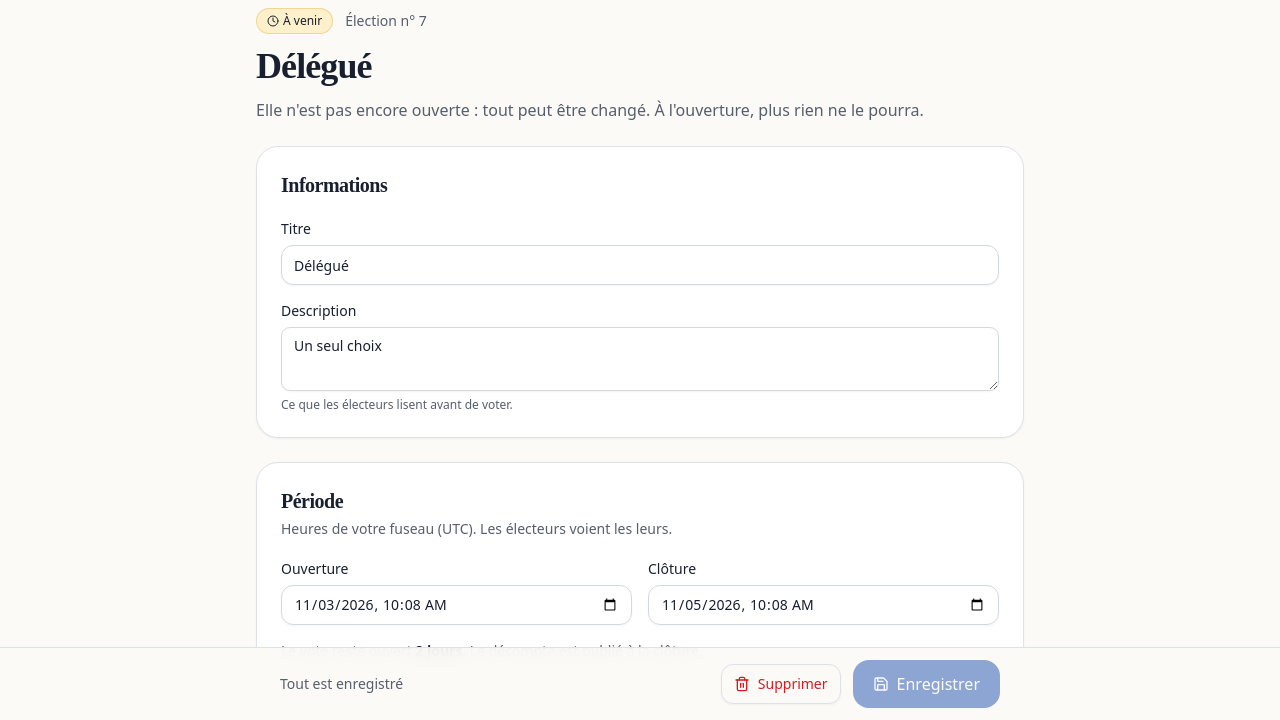
Test: changing an election that has not opened › shows who is on the roll, and a new title is saved WITHOUT touching it
Replace the text in the field labelled "Titre" with "Renamed" at (640, 265), box [281, 245, 999, 285]
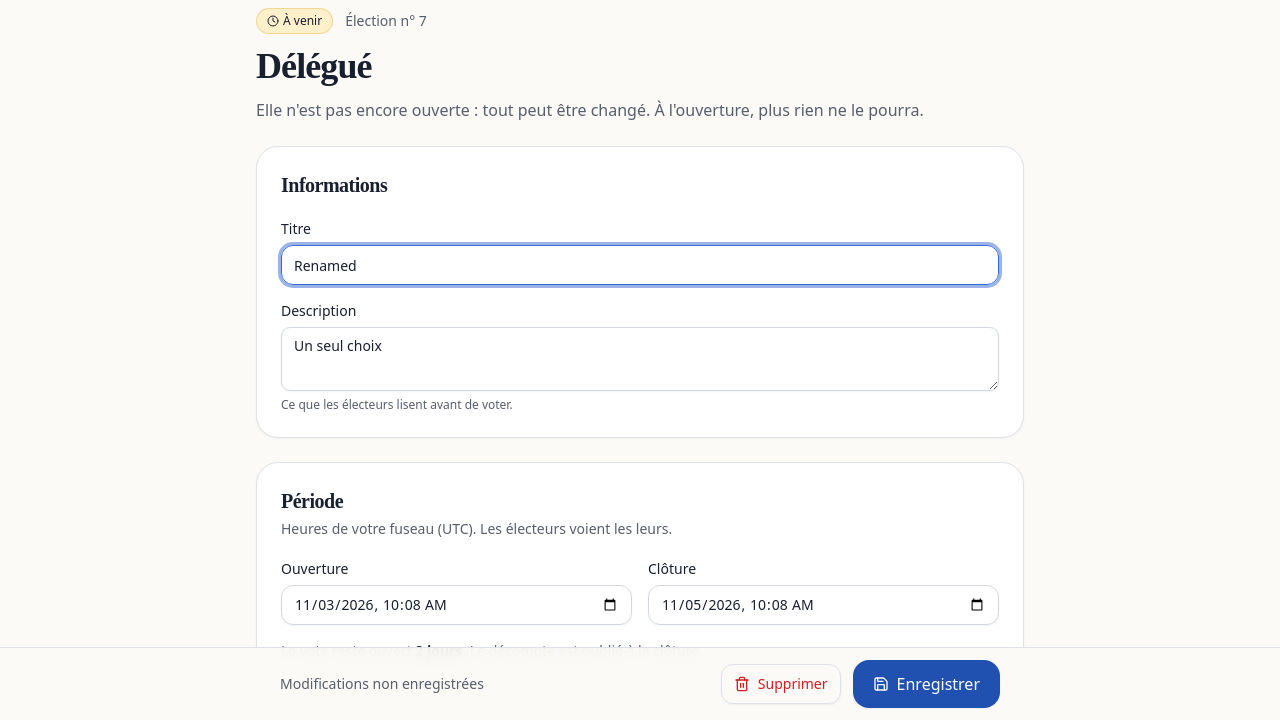
Click the button "Enregistrer".
click(926, 684)  # box [853, 660, 1000, 708]
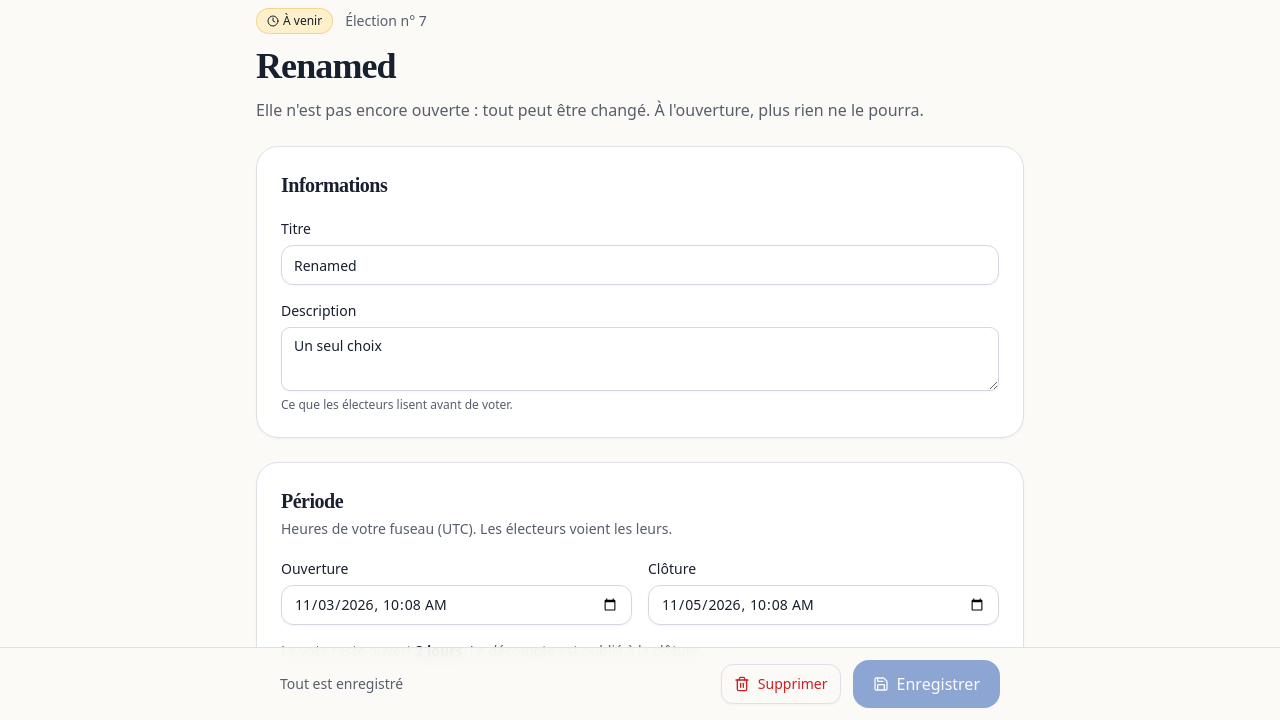
expect the heading "Renamed" is shown: met, box [256, 46, 396, 86]
